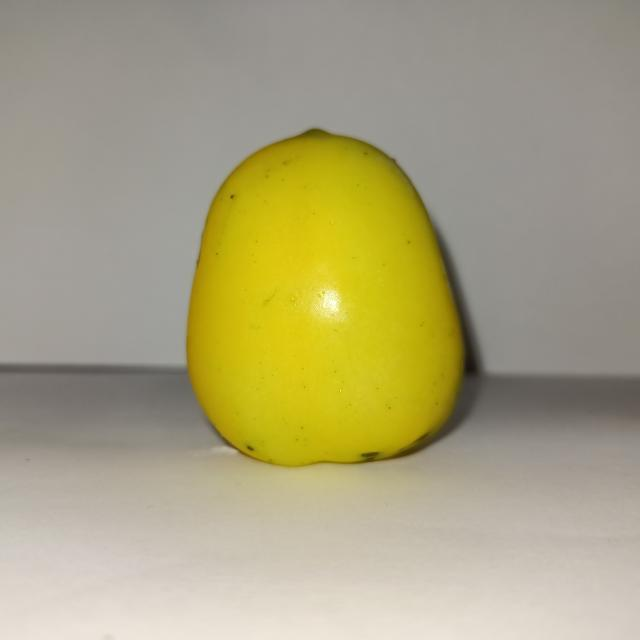Red: (184, 126, 467, 467)
